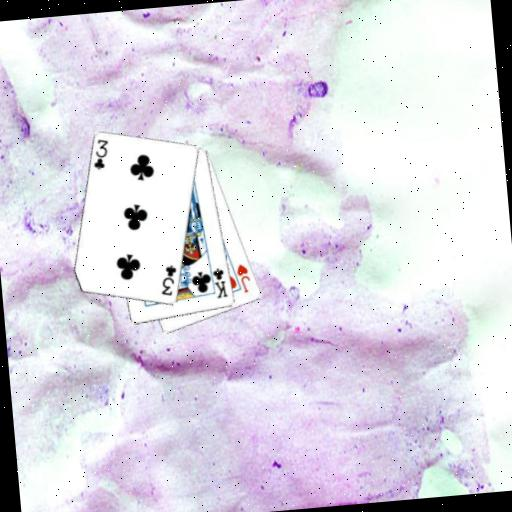3C: (156, 261, 180, 298), (89, 135, 112, 172)
JH: (233, 260, 253, 295)
KC: (206, 262, 230, 300)
